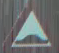Speed Breaker ahead: (2, 4, 54, 52)
